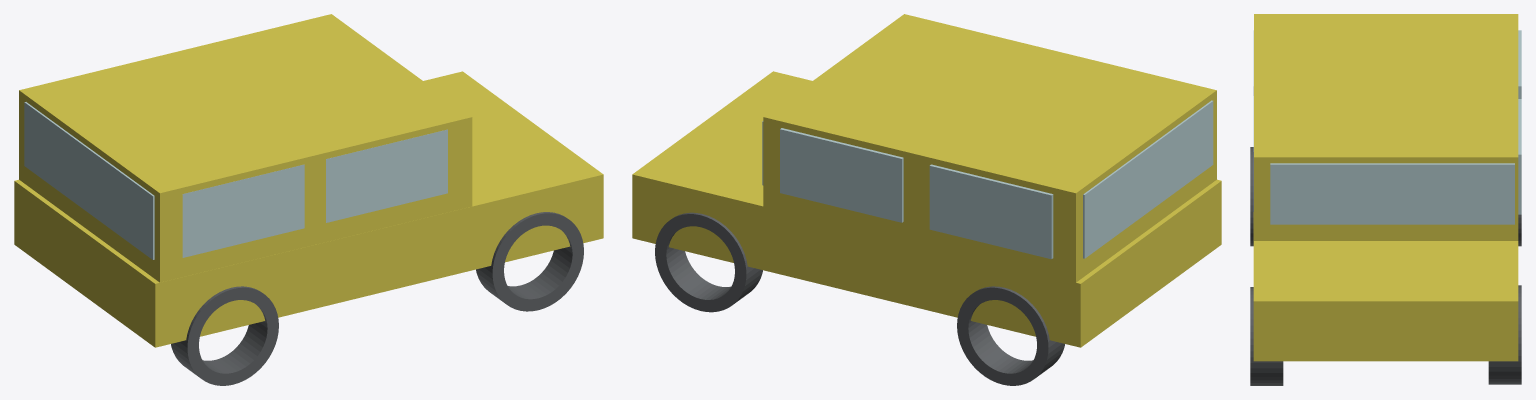
File: cocheAmarilloCubo.glb
The picture shows the model from 3 angles, left to right: view 1: azimuth 30°, elevation 25°; view 2: azimuth 150°, elevation 25°; view 3: azimuth 270°, elevation 25°; orthographic projection. The views are drawn at different scales.
Parts seen in each view (by area): view 1: Mesh_Mesh_head_geo.001_lambert2SG.001; view 2: Mesh_Mesh_head_geo.001_lambert2SG.001; view 3: Mesh_Mesh_head_geo.001_lambert2SG.001.
Boxes of the visible parts, x1,y1,x2,y2 form: Mesh_Mesh_head_geo.001_lambert2SG.001: (14, 14, 603, 385); Mesh_Mesh_head_geo.001_lambert2SG.001: (632, 14, 1221, 385); Mesh_Mesh_head_geo.001_lambert2SG.001: (1250, 14, 1521, 385).
Size of the model in its own units: 0.147 by 0.065 by 0.082.
